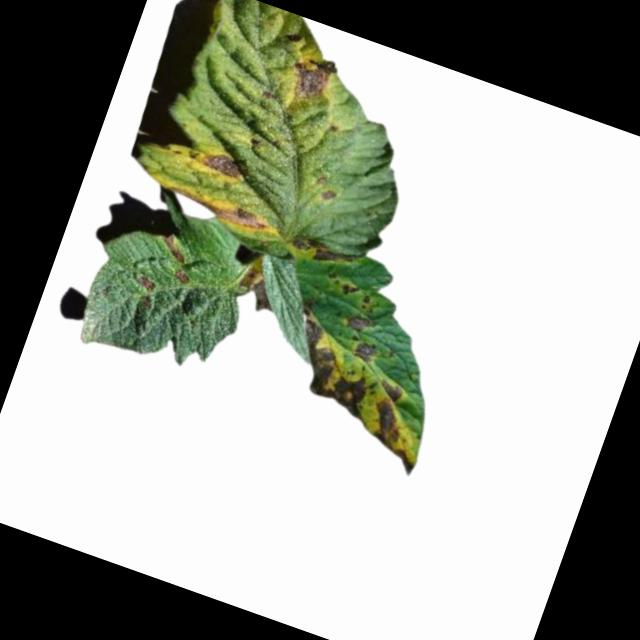Early_blight: (253, 305, 453, 480), (163, 182, 270, 238), (281, 47, 338, 109), (234, 265, 284, 321), (289, 231, 346, 272), (190, 142, 249, 181), (154, 232, 189, 265), (350, 337, 380, 366), (342, 309, 374, 336), (315, 182, 339, 206), (133, 273, 157, 294), (171, 268, 191, 288), (358, 293, 377, 314), (339, 280, 359, 299)
